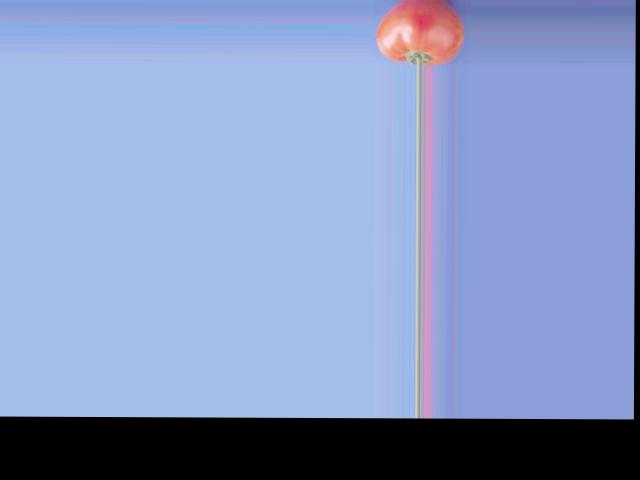tomato: (376, 1, 465, 66)
